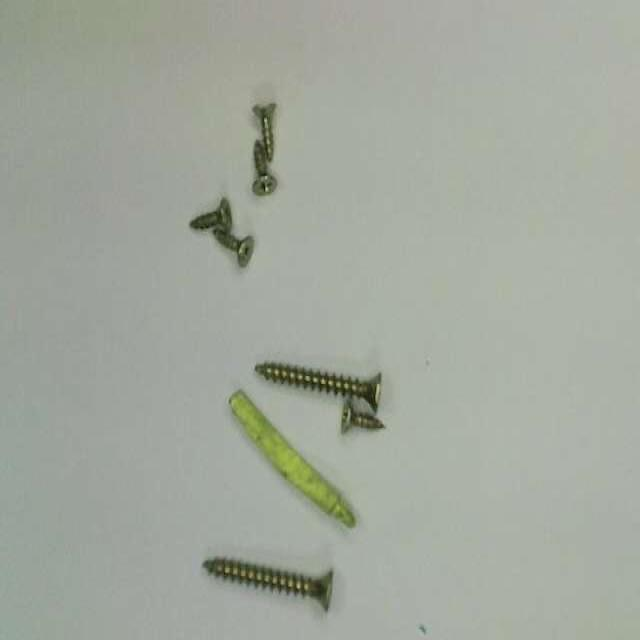Parafuso: (203, 559, 331, 611), (255, 363, 379, 409), (191, 197, 231, 232), (216, 229, 253, 265), (252, 140, 276, 195), (342, 401, 384, 432), (253, 105, 276, 161)
